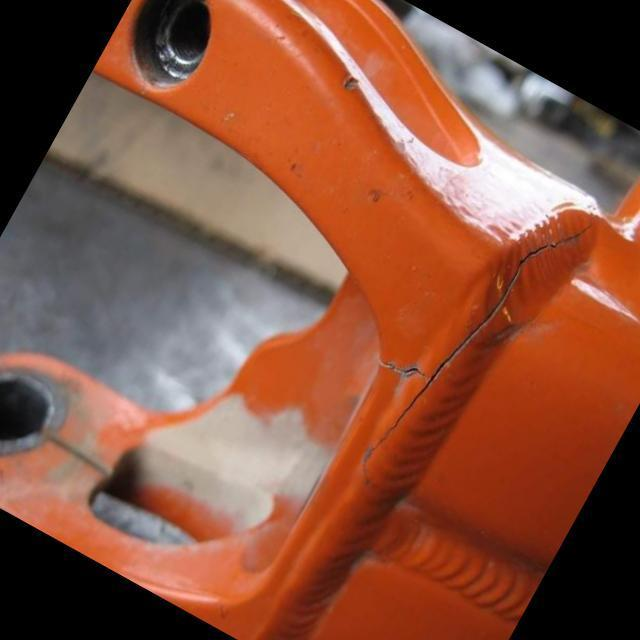defect: (359, 220, 598, 493)
